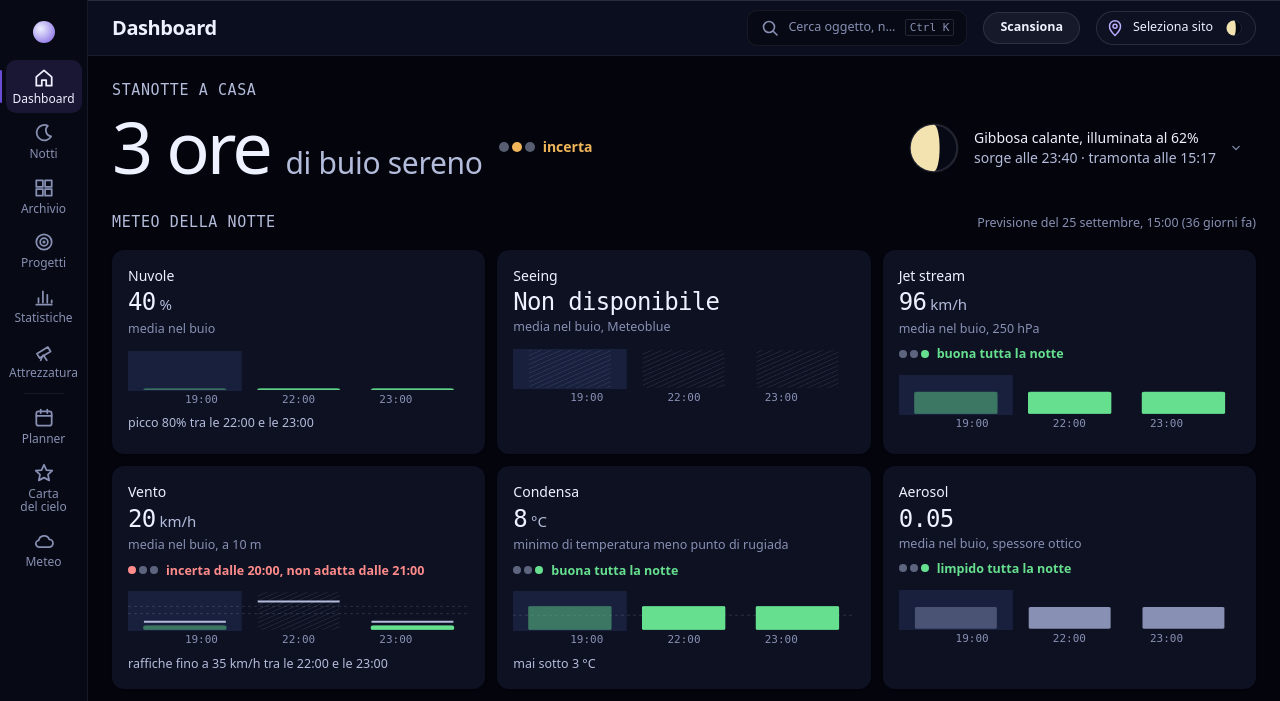
Test: il dettaglio della Luna › si apre dalla Luna in testa e dice luce, eta', orari con la direzione, distanza e prossime fasi
The image size is (1280, 701).
Click the button "Gibbosa calante, illuminata al 62%": coordinates (1075, 148) top-left (894, 112), bottom-right (1256, 184)
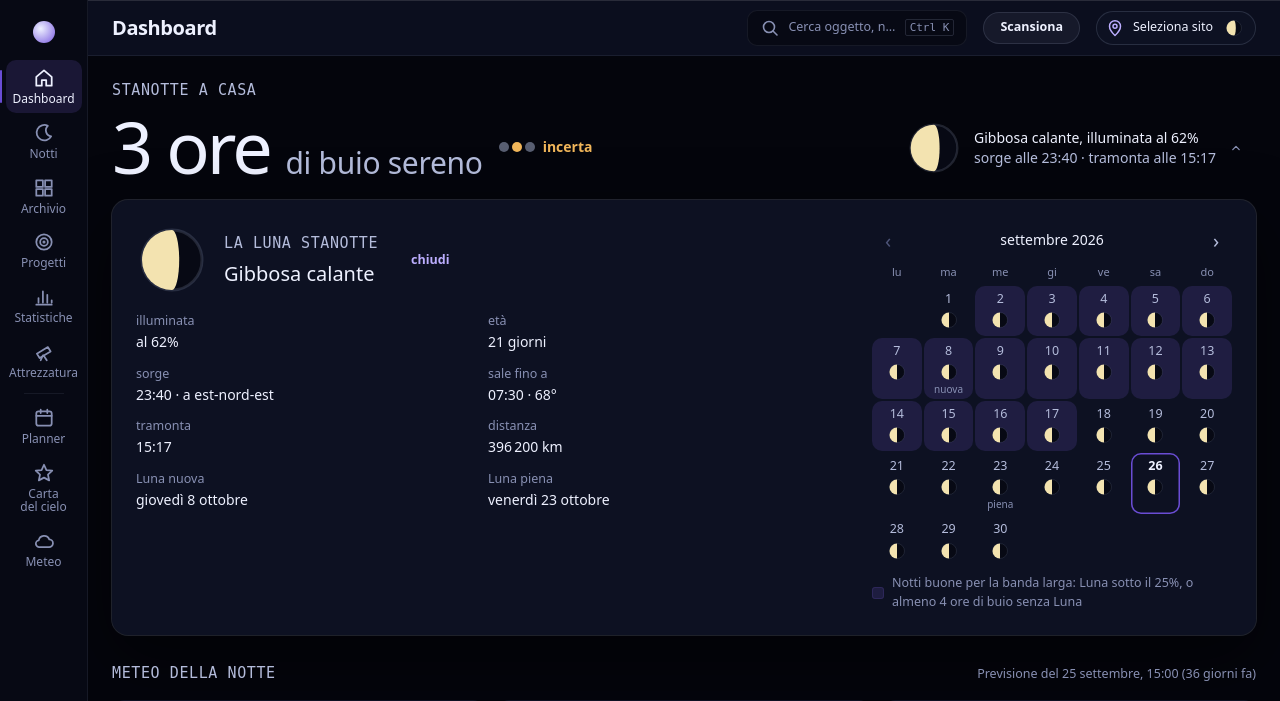
expect the text "Gibbosa calante" is shown: met, box top-left (224, 259), bottom-right (378, 288)
